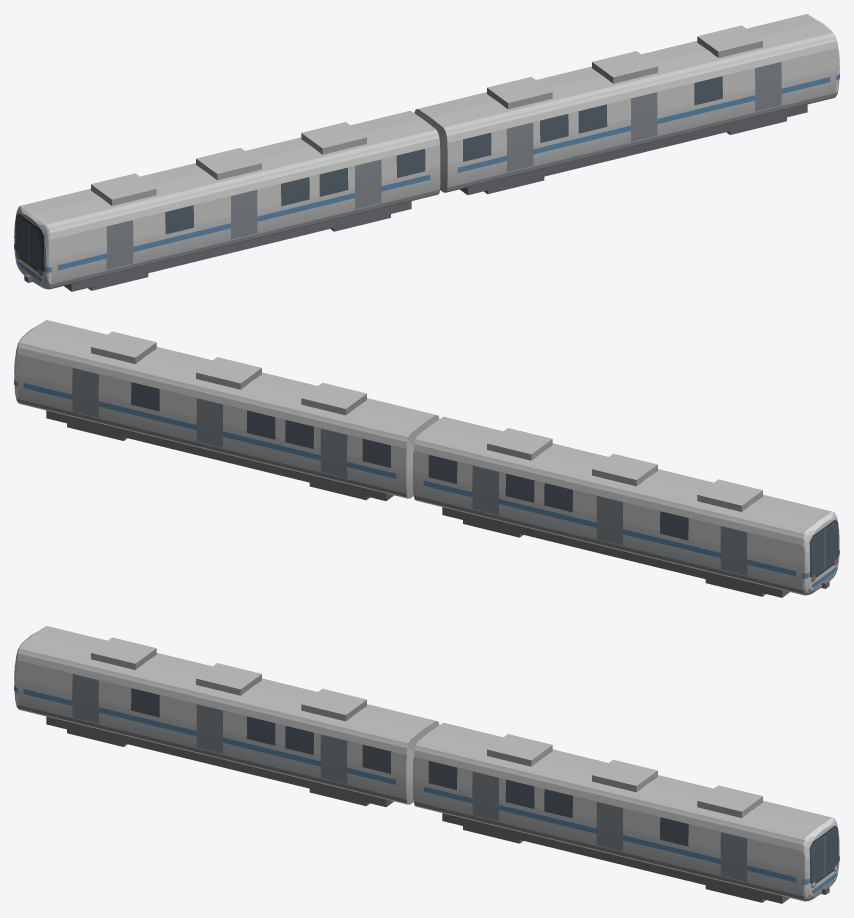
Rendered from 05_TRA_classic_3x2-01.glb.
3 renders of one model, top to bottom at view 1: azimuth 30°, elevation 25°; view 2: azimuth 150°, elevation 25°; view 3: azimuth 330°, elevation 25°, orthographic.
Size of the model in its own units: 39.48 by 3.98 by 2.94.
